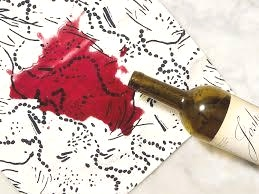wine: (20, 29, 131, 128)
